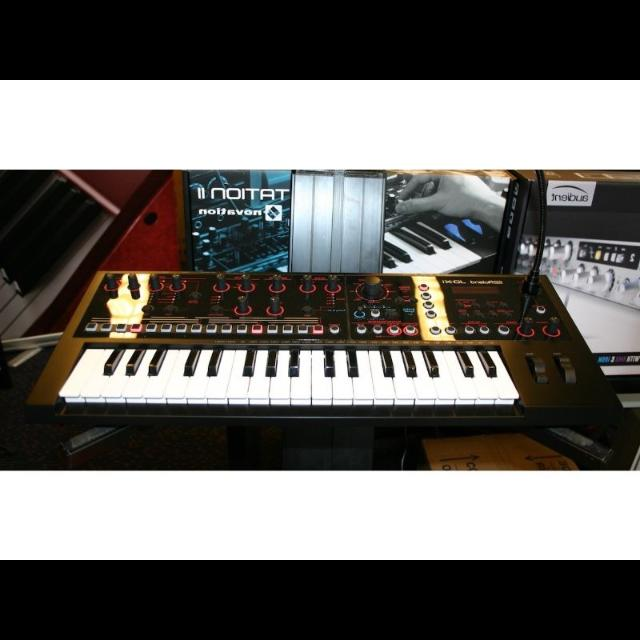Electronic-Keyboard: (41, 250, 609, 438)
